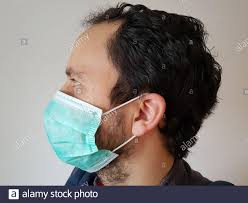with-mask: (44, 18, 210, 183)
